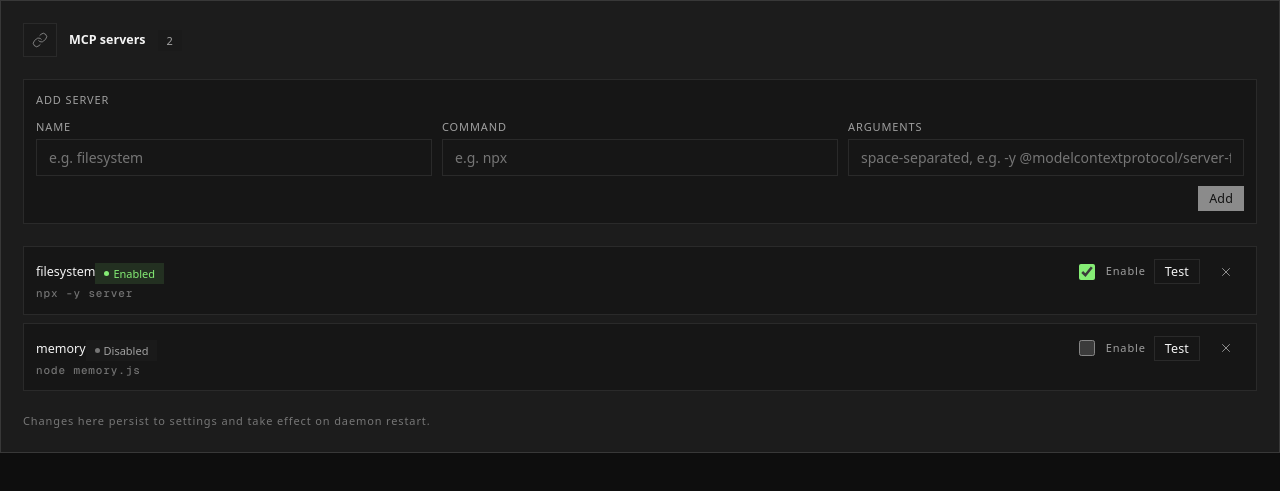
McpServersPanel › surfaces a successful connection test with latency and tool count
Click the button "Test" in the row of "Enabled" at (1177, 272), box [1154,259,1200,284]
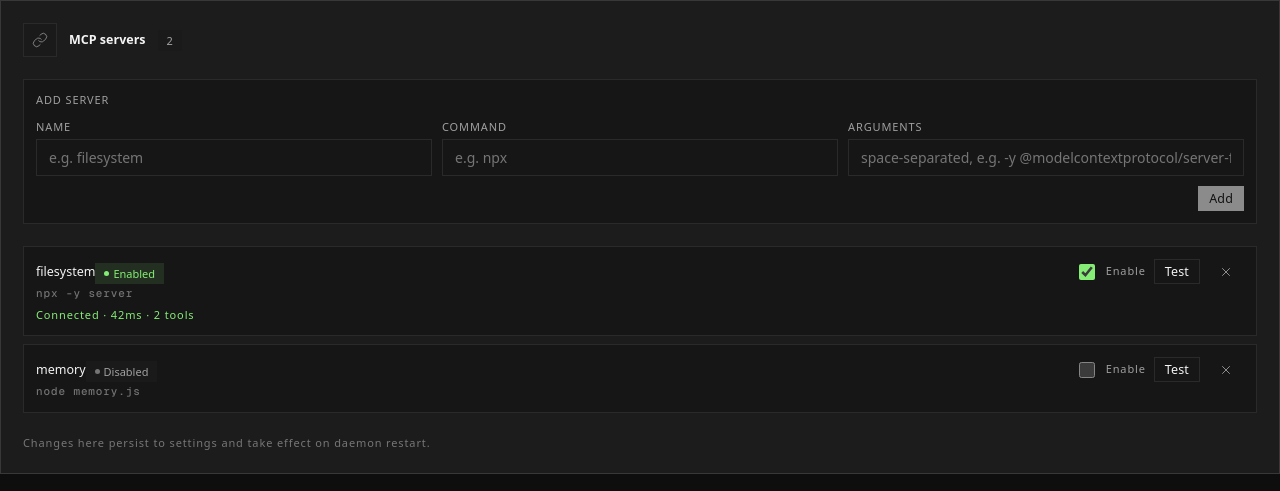
Result: the text "Connected · 42ms · 2 tools" is shown at [36,306,194,323]
